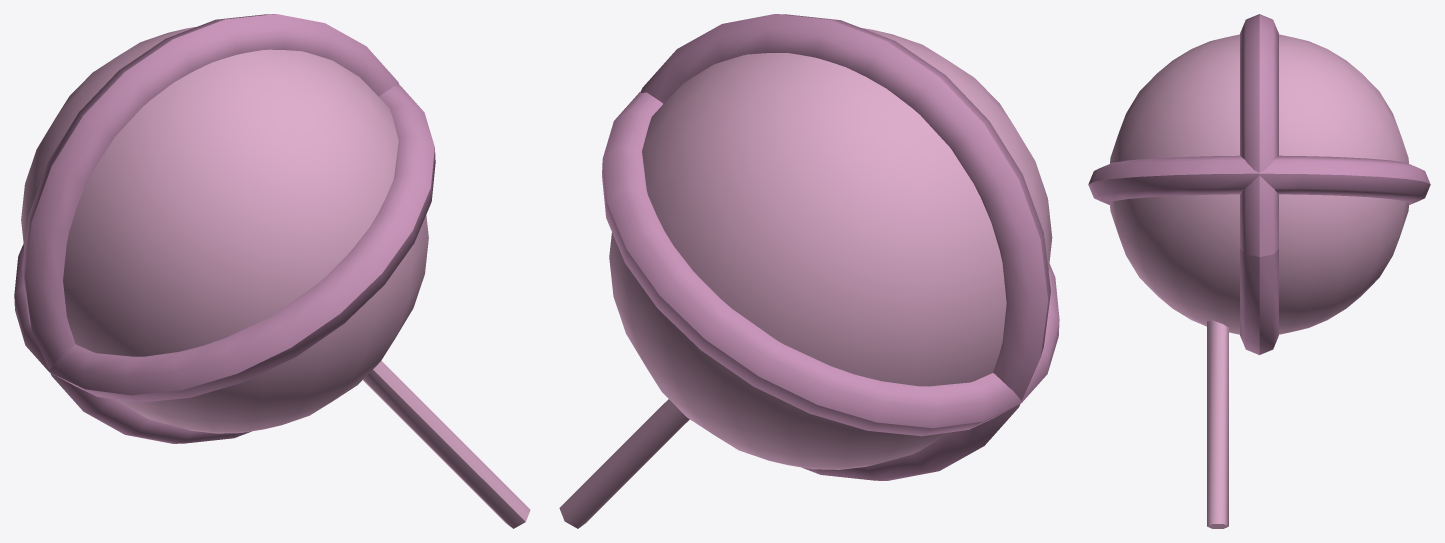
File: held-item.glb
3 renders of one model, left to right at view 1: azimuth 30°, elevation 25°; view 2: azimuth 150°, elevation 25°; view 3: azimuth 270°, elevation 25°, orthographic. The views are drawn at different scales.
Parts seen in each view (by area): view 1: yarn; view 2: yarn; view 3: yarn.
Boxes of the visible parts, x1,y1,x2,y2 form: yarn: [14, 14, 530, 528]; yarn: [559, 14, 1059, 528]; yarn: [1088, 14, 1430, 528].
Size of the model in its own units: 0.2937 by 0.3249 by 0.248.
